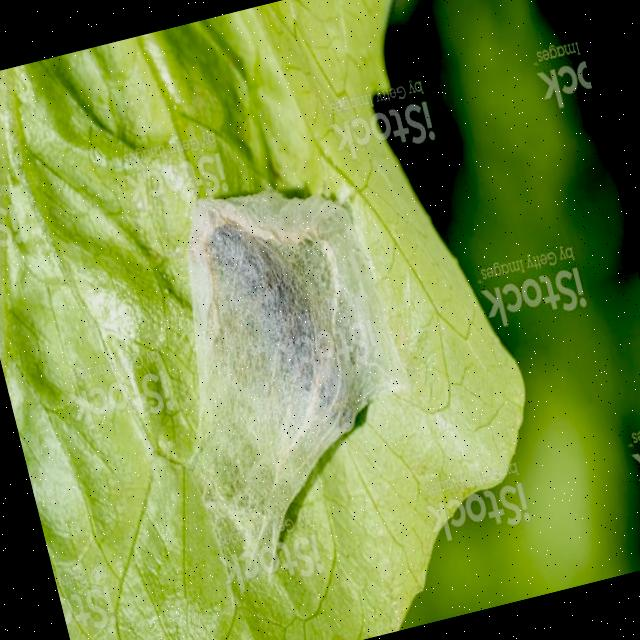Bacterial: (110, 149, 450, 566)
